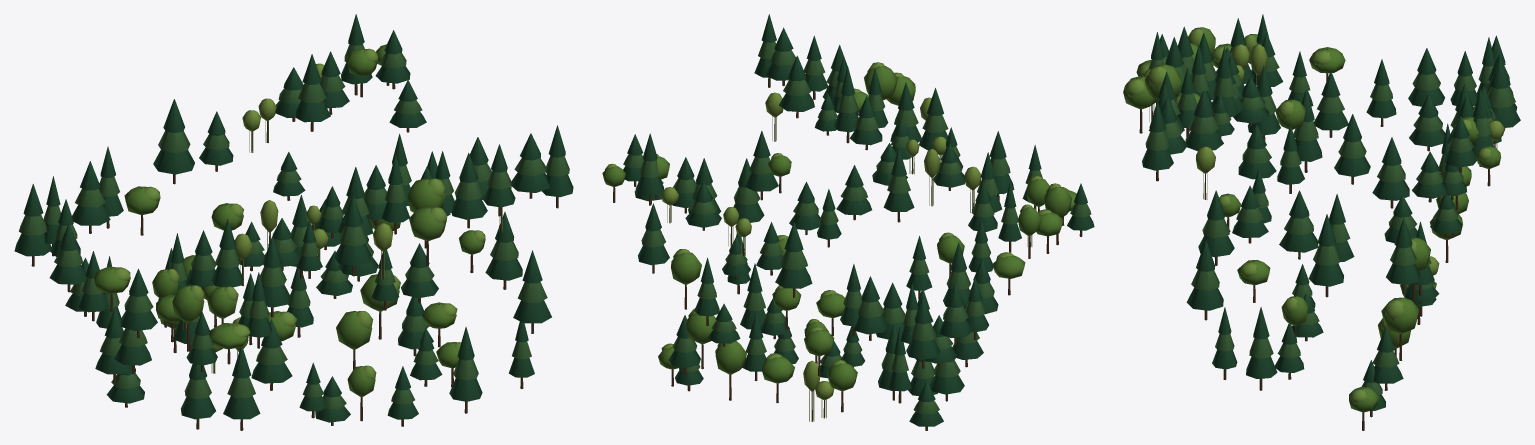
Rendered from forest_4_7.dae.
The picture shows the model from 3 angles, left to right: view 1: azimuth 30°, elevation 25°; view 2: azimuth 150°, elevation 25°; view 3: azimuth 270°, elevation 25°; orthographic projection. The views are drawn at different scales.
Visible parts, largest first — view 1: forest_4_7; view 2: forest_4_7; view 3: forest_4_7.
Part boxes in pixels (x1=…): forest_4_7: x1=14, y1=14, x2=573, y2=430; forest_4_7: x1=602, y1=14, x2=1094, y2=430; forest_4_7: x1=1123, y1=14, x2=1520, y2=430.
Bounding box in the file's own units: 134 × 122 × 111.
